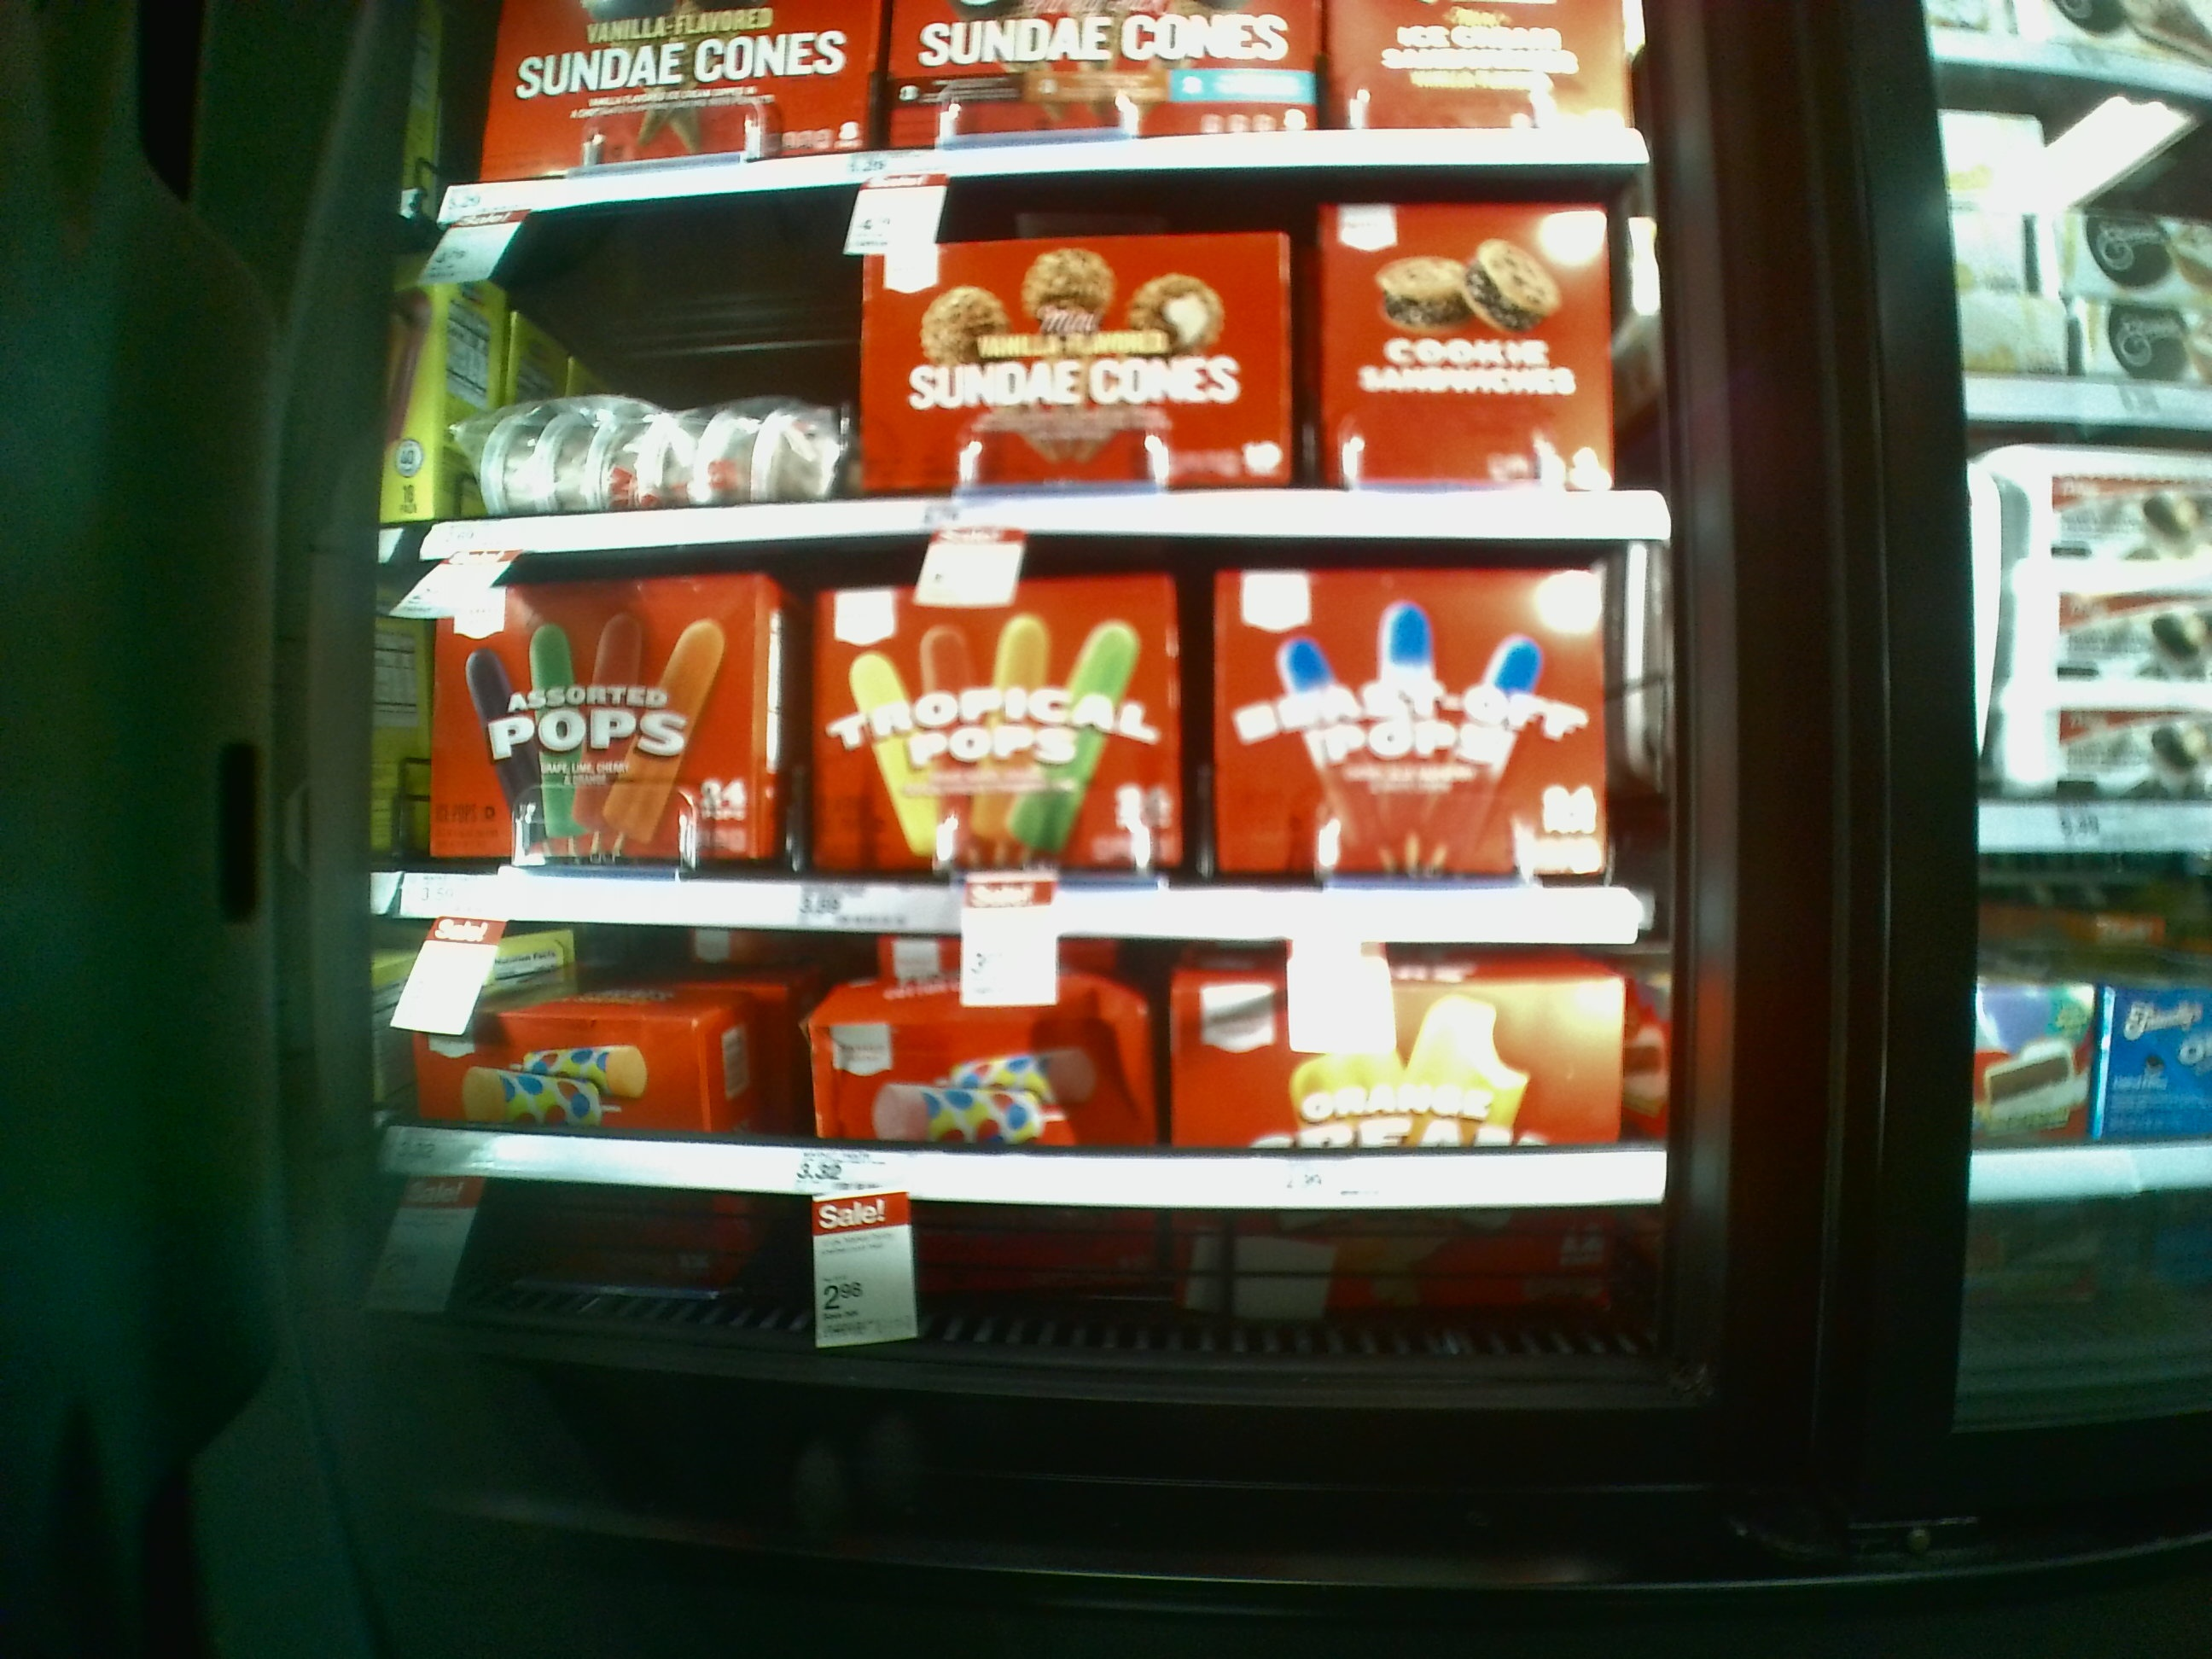shelf: (376, 917, 1676, 1370), (378, 542, 1674, 924), (408, 211, 1667, 528)
